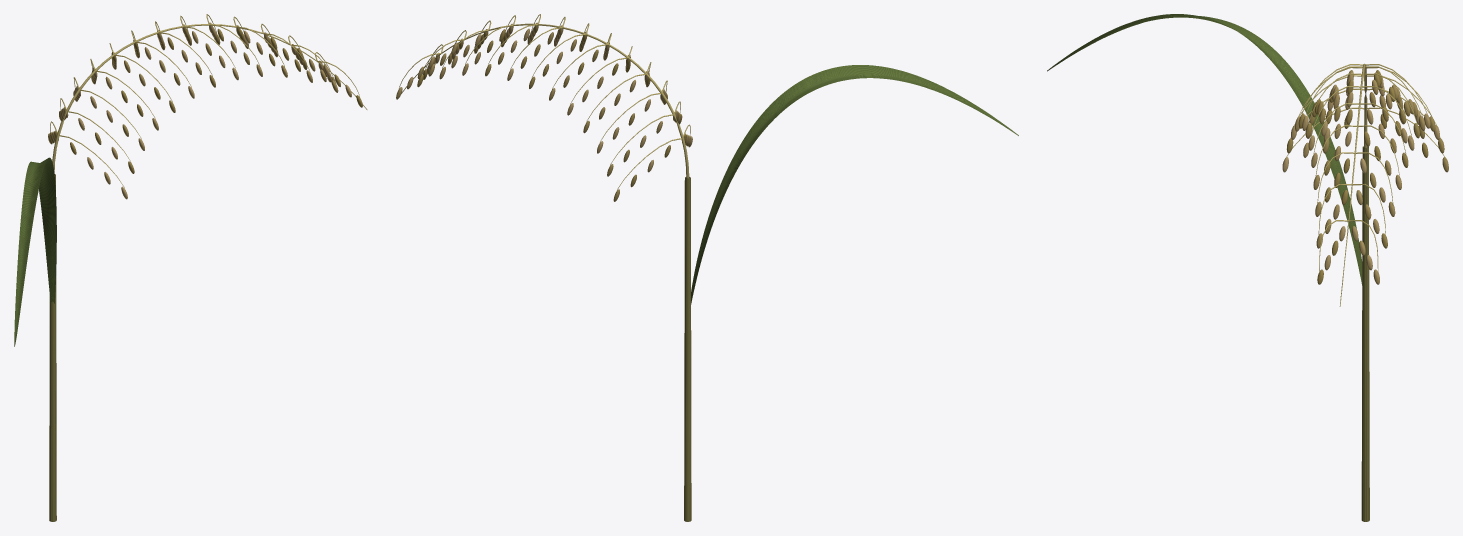
File: rice-macro.glb
The picture shows the model from 3 angles, left to right: view 1: azimuth 30°, elevation 25°; view 2: azimuth 150°, elevation 25°; view 3: azimuth 270°, elevation 25°; orthographic projection. The views are drawn at different scales.
Parts seen in each view (by area): view 1: grain, grass-leaf, rachis, stem; view 2: grass-leaf, grain, stem, rachis; view 3: grain, rachis, grass-leaf, stem.
Boxes of the visible parts, left/top/right/bottom form: grain: left=48, top=22, right=362, bottom=199; grass-leaf: left=14, top=157, right=56, bottom=346; rachis: left=50, top=14, right=367, bottom=188; stem: left=49, top=174, right=56, bottom=521; grass-leaf: left=691, top=65, right=1018, bottom=304; grain: left=396, top=22, right=692, bottom=201; stem: left=684, top=177, right=691, bottom=521; rachis: left=398, top=14, right=690, bottom=191; grain: left=1282, top=70, right=1448, bottom=284; rachis: left=1285, top=63, right=1446, bottom=306; grass-leaf: left=1047, top=14, right=1362, bottom=285; stem: left=1361, top=146, right=1369, bottom=521.
Size of the model in its own units: 0.3555 by 0.3243 by 0.2345.
4 materials, 3 textured.
